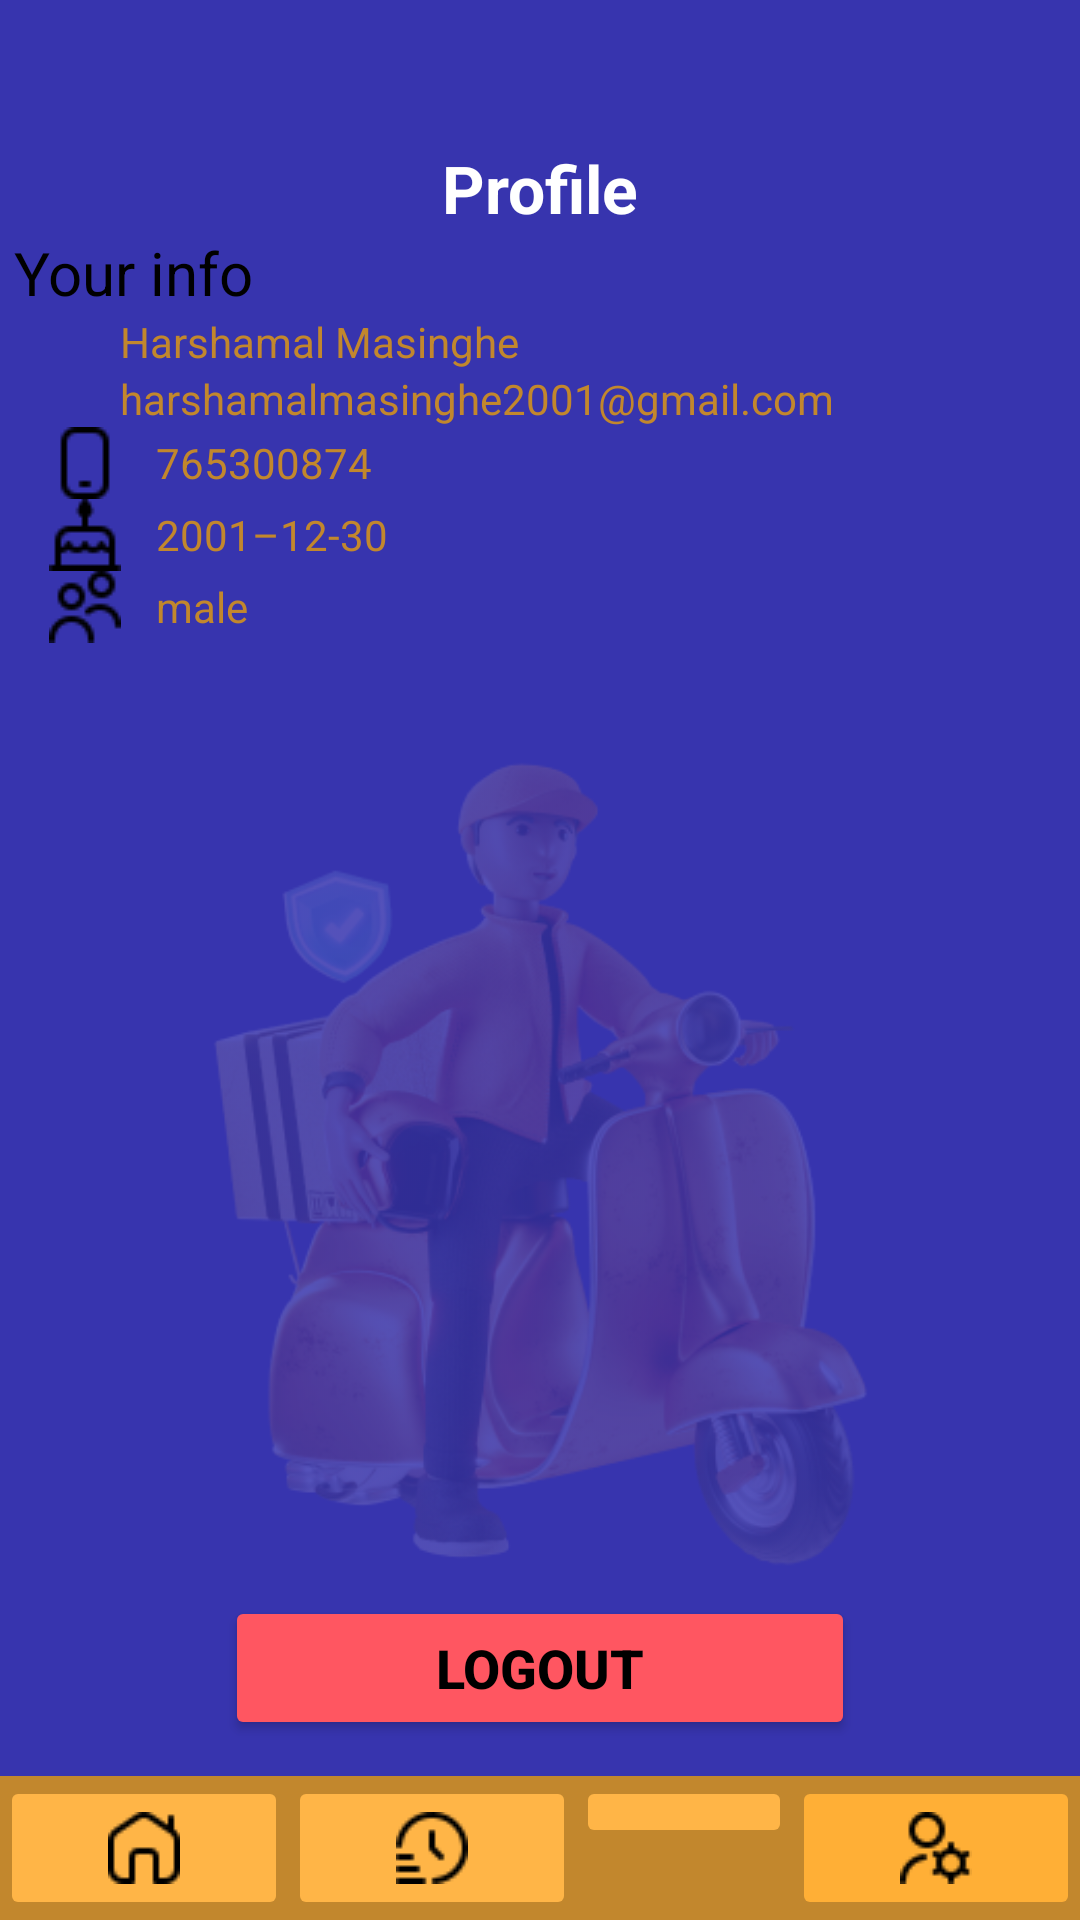

Named icons in this screenshot (1080px x 1920px) and their bounding boxes, (x1=x1, y1=y1, x2=x2, y2=y2):
Activity: (x1=300, y1=1794, x2=564, y2=1902)
birthday: (x1=49, y1=499, x2=121, y2=571)
gender: (x1=49, y1=582, x2=121, y2=643)
Home: (x1=12, y1=1794, x2=276, y2=1902)
phone: (x1=60, y1=427, x2=110, y2=499)
Profile: (x1=804, y1=1794, x2=1068, y2=1902)
